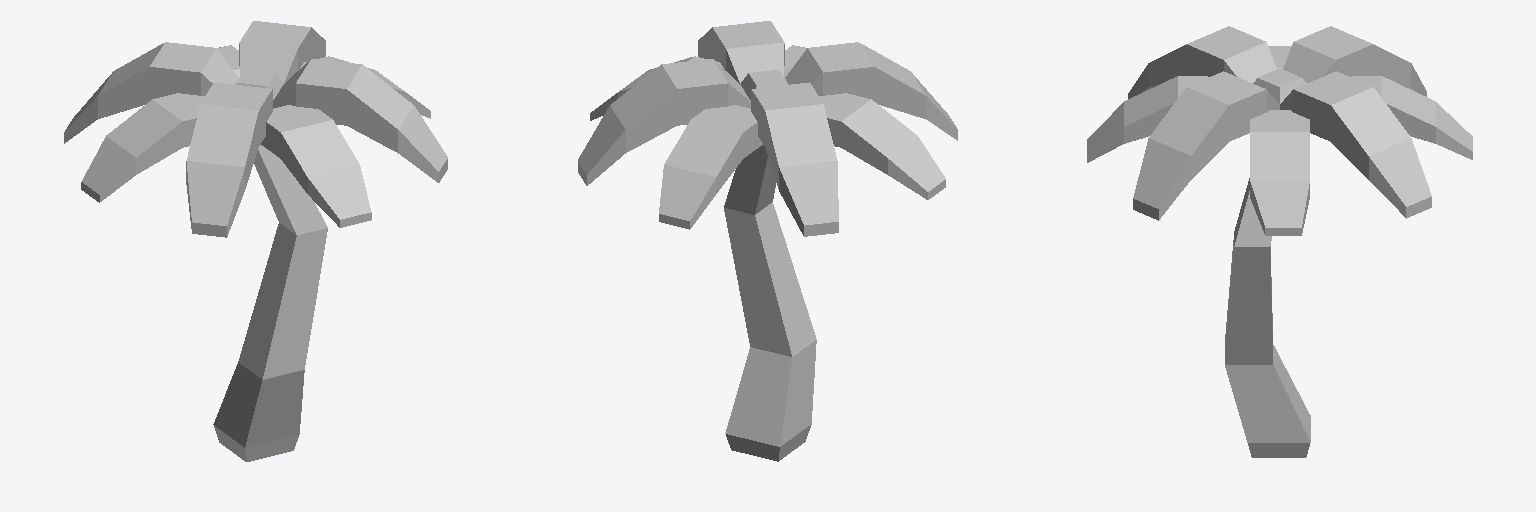
Rendered from palmDetailed_small.obj.
3 renders of one model, left to right at view 1: azimuth 30°, elevation 25°; view 2: azimuth 150°, elevation 25°; view 3: azimuth 270°, elevation 25°, orthographic.
Visible parts, largest first — view 1: Group 147, Group 145; view 2: Group 147, Group 145; view 3: Group 147, Group 145.
Part boxes in pixels (left/top/right/bottom): Group 147: left=64, top=21, right=447, bottom=237; Group 145: left=213, top=145, right=327, bottom=461; Group 147: left=578, top=21, right=957, bottom=236; Group 145: left=724, top=145, right=816, bottom=461; Group 147: left=1087, top=26, right=1472, bottom=235; Group 145: left=1225, top=178, right=1310, bottom=457.
Size of the model in its own units: 7.72 by 8.39 by 7.72.